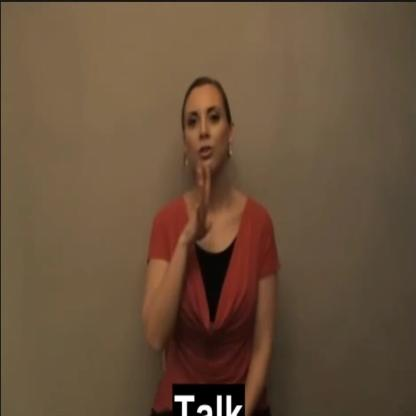Talk: (166, 72, 253, 238)
